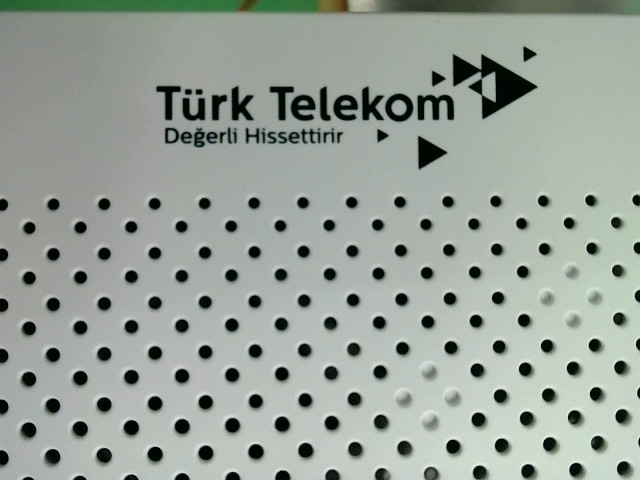AQ_TURKTelekom: (152, 42, 538, 170)
